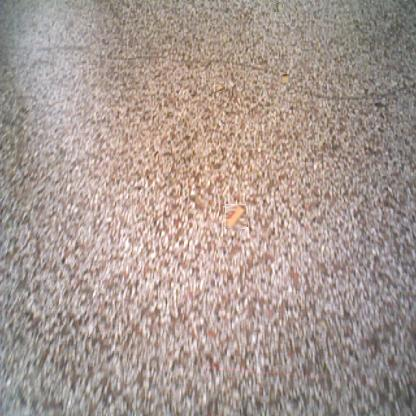dirty: (224, 205, 247, 228), (214, 81, 225, 92), (282, 74, 292, 86), (274, 3, 284, 13)
